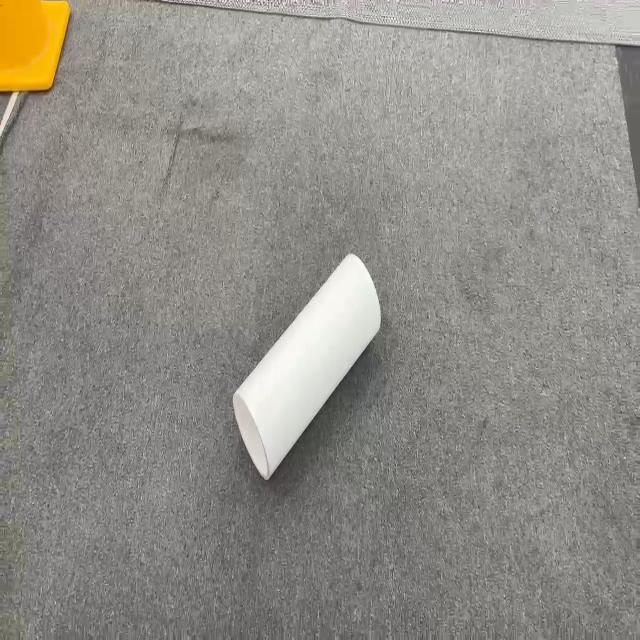coral: (232, 251, 382, 481)
